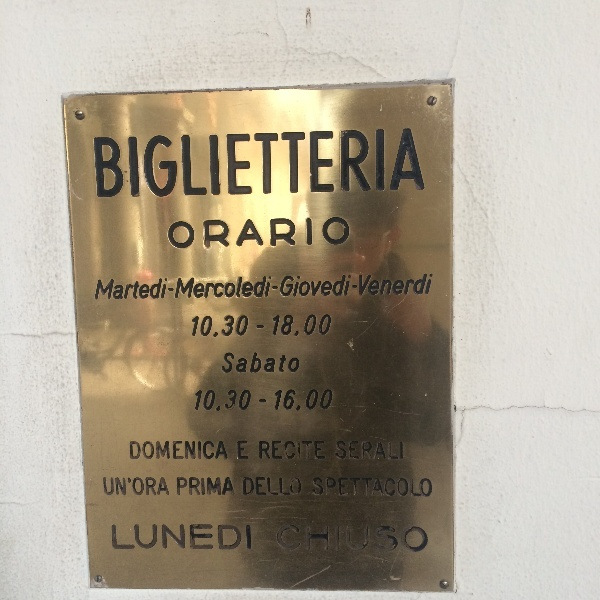text: (97, 127, 112, 201), (113, 127, 128, 201), (129, 127, 144, 201), (145, 127, 160, 201), (161, 127, 176, 201), (177, 127, 192, 201), (193, 127, 208, 201), (209, 127, 224, 201), (225, 127, 240, 201), (241, 127, 256, 201), (257, 127, 272, 201), (273, 127, 288, 201), (289, 127, 304, 201), (305, 127, 320, 201), (321, 127, 336, 201), (337, 127, 352, 201), (353, 127, 368, 201), (369, 127, 384, 201), (385, 127, 400, 201), (401, 127, 416, 201), (417, 127, 428, 201), (177, 216, 192, 252), (193, 216, 208, 252), (209, 216, 224, 252), (225, 216, 240, 252), (241, 216, 256, 252), (257, 216, 272, 252), (273, 216, 288, 252), (289, 216, 304, 252), (305, 216, 320, 252), (321, 216, 336, 252), (289, 520, 304, 555), (305, 520, 320, 555), (321, 520, 336, 555), (337, 520, 352, 555), (353, 520, 368, 555), (369, 520, 384, 555), (385, 520, 400, 555), (401, 520, 416, 555), (337, 216, 351, 252), (417, 520, 430, 555), (113, 272, 128, 301), (129, 272, 144, 301), (145, 272, 160, 301), (161, 272, 176, 301), (177, 272, 192, 301), (193, 272, 208, 301), (209, 272, 224, 301), (225, 272, 240, 301), (241, 272, 256, 301), (257, 272, 272, 301), (273, 272, 288, 301), (289, 272, 304, 301), (305, 272, 320, 301), (321, 272, 336, 301), (337, 272, 352, 301), (353, 272, 368, 301), (369, 272, 384, 301), (385, 272, 400, 301), (401, 272, 416, 301), (417, 272, 432, 301), (276, 520, 288, 555), (113, 523, 128, 551), (129, 523, 144, 551), (145, 523, 160, 551), (161, 523, 176, 551), (177, 523, 192, 551), (193, 523, 208, 551), (209, 523, 224, 551), (225, 523, 240, 551), (98, 272, 112, 301), (241, 523, 254, 551), (321, 477, 336, 501), (337, 477, 352, 501), (353, 477, 368, 501), (369, 477, 384, 501), (385, 477, 400, 501), (401, 477, 416, 501), (417, 477, 432, 501), (257, 476, 272, 499), (273, 476, 288, 499), (209, 389, 224, 412), (225, 389, 240, 412), (225, 351, 240, 374), (241, 351, 256, 374), (257, 351, 272, 374), (273, 351, 288, 374), (273, 314, 288, 337), (289, 314, 304, 337), (305, 314, 320, 337), (289, 389, 304, 411), (305, 389, 320, 411), (193, 316, 208, 338), (209, 316, 224, 338), (225, 316, 240, 338), (289, 476, 303, 499), (321, 389, 335, 411), (273, 440, 288, 460), (289, 440, 304, 460), (305, 440, 320, 460), (337, 441, 352, 461), (353, 441, 368, 461), (369, 441, 384, 461), (385, 441, 400, 461), (241, 389, 254, 412), (275, 389, 288, 411), (177, 477, 192, 496), (193, 477, 208, 496), (209, 477, 224, 496), (113, 477, 128, 496), (129, 477, 144, 496), (145, 477, 160, 496), (244, 476, 256, 499), (196, 389, 208, 412), (289, 351, 301, 374), (321, 314, 333, 337), (145, 442, 160, 460), (161, 442, 176, 460), (177, 442, 192, 460), (193, 442, 208, 460), (209, 442, 224, 460), (259, 440, 272, 460), (130, 442, 144, 460), (169, 216, 176, 252), (241, 316, 251, 338), (312, 477, 320, 501), (225, 477, 235, 496), (103, 477, 112, 496), (161, 477, 170, 496), (241, 440, 249, 460), (94, 127, 96, 201), (321, 440, 326, 460), (259, 399, 272, 404), (237, 440, 240, 460), (433, 272, 435, 301), (225, 442, 228, 460), (401, 441, 403, 461), (257, 325, 264, 329), (433, 477, 434, 501)
